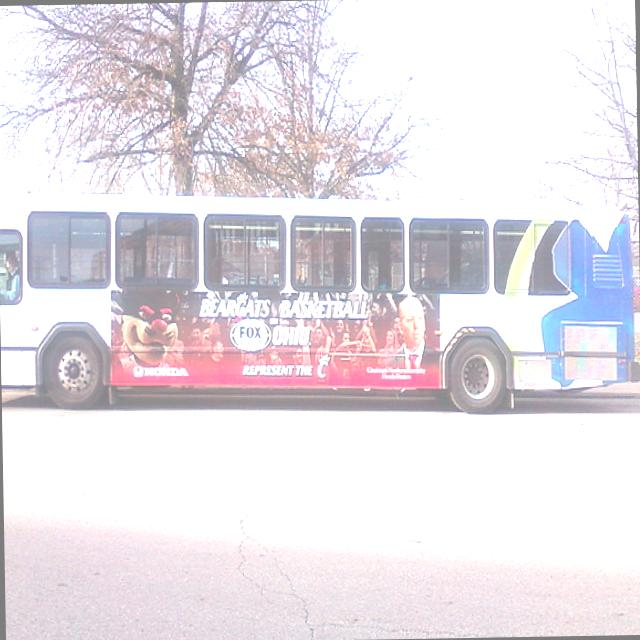Vehicle: (0, 180, 635, 421)
